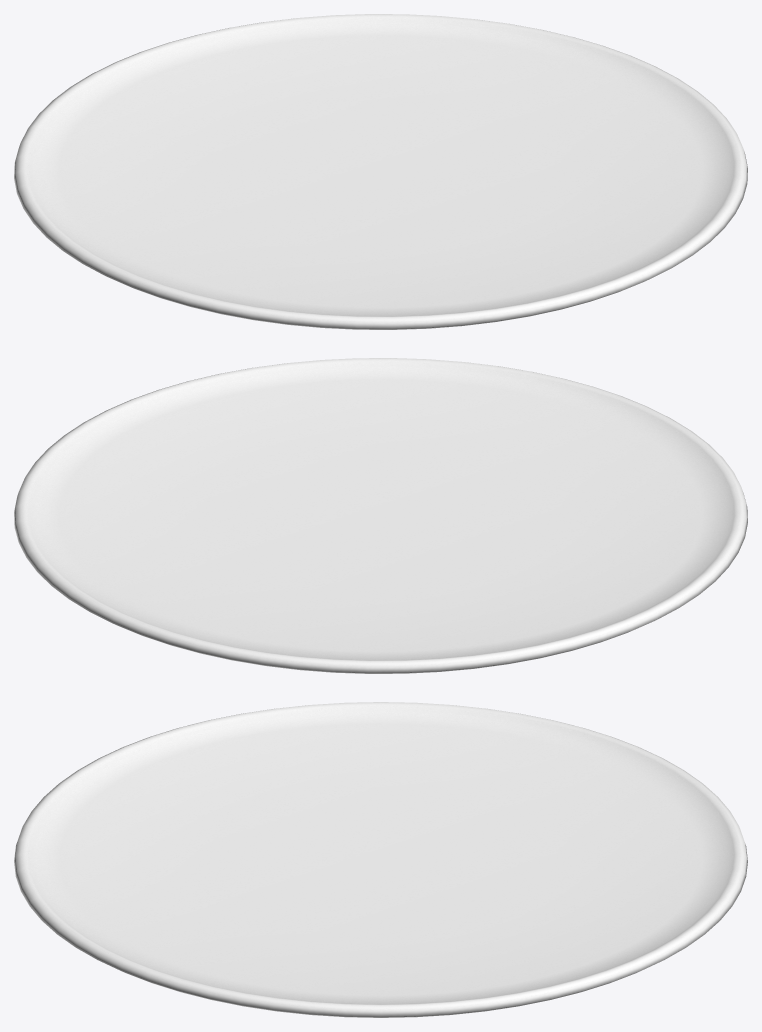
Rendered from PizzaDough.fbx.
3 renders of one model, top to bottom at view 1: azimuth 30°, elevation 25°; view 2: azimuth 150°, elevation 25°; view 3: azimuth 270°, elevation 25°, orthographic.
Parts seen in each view (by area): view 1: PizzaDough; view 2: PizzaDough; view 3: PizzaDough.
Boxes of the visible parts, x1,y1,x2,y2 form: PizzaDough: [14, 14, 747, 329]; PizzaDough: [14, 358, 747, 673]; PizzaDough: [14, 702, 747, 1017].
Bounding box in the file's own units: 166 × 4.83 × 166.
